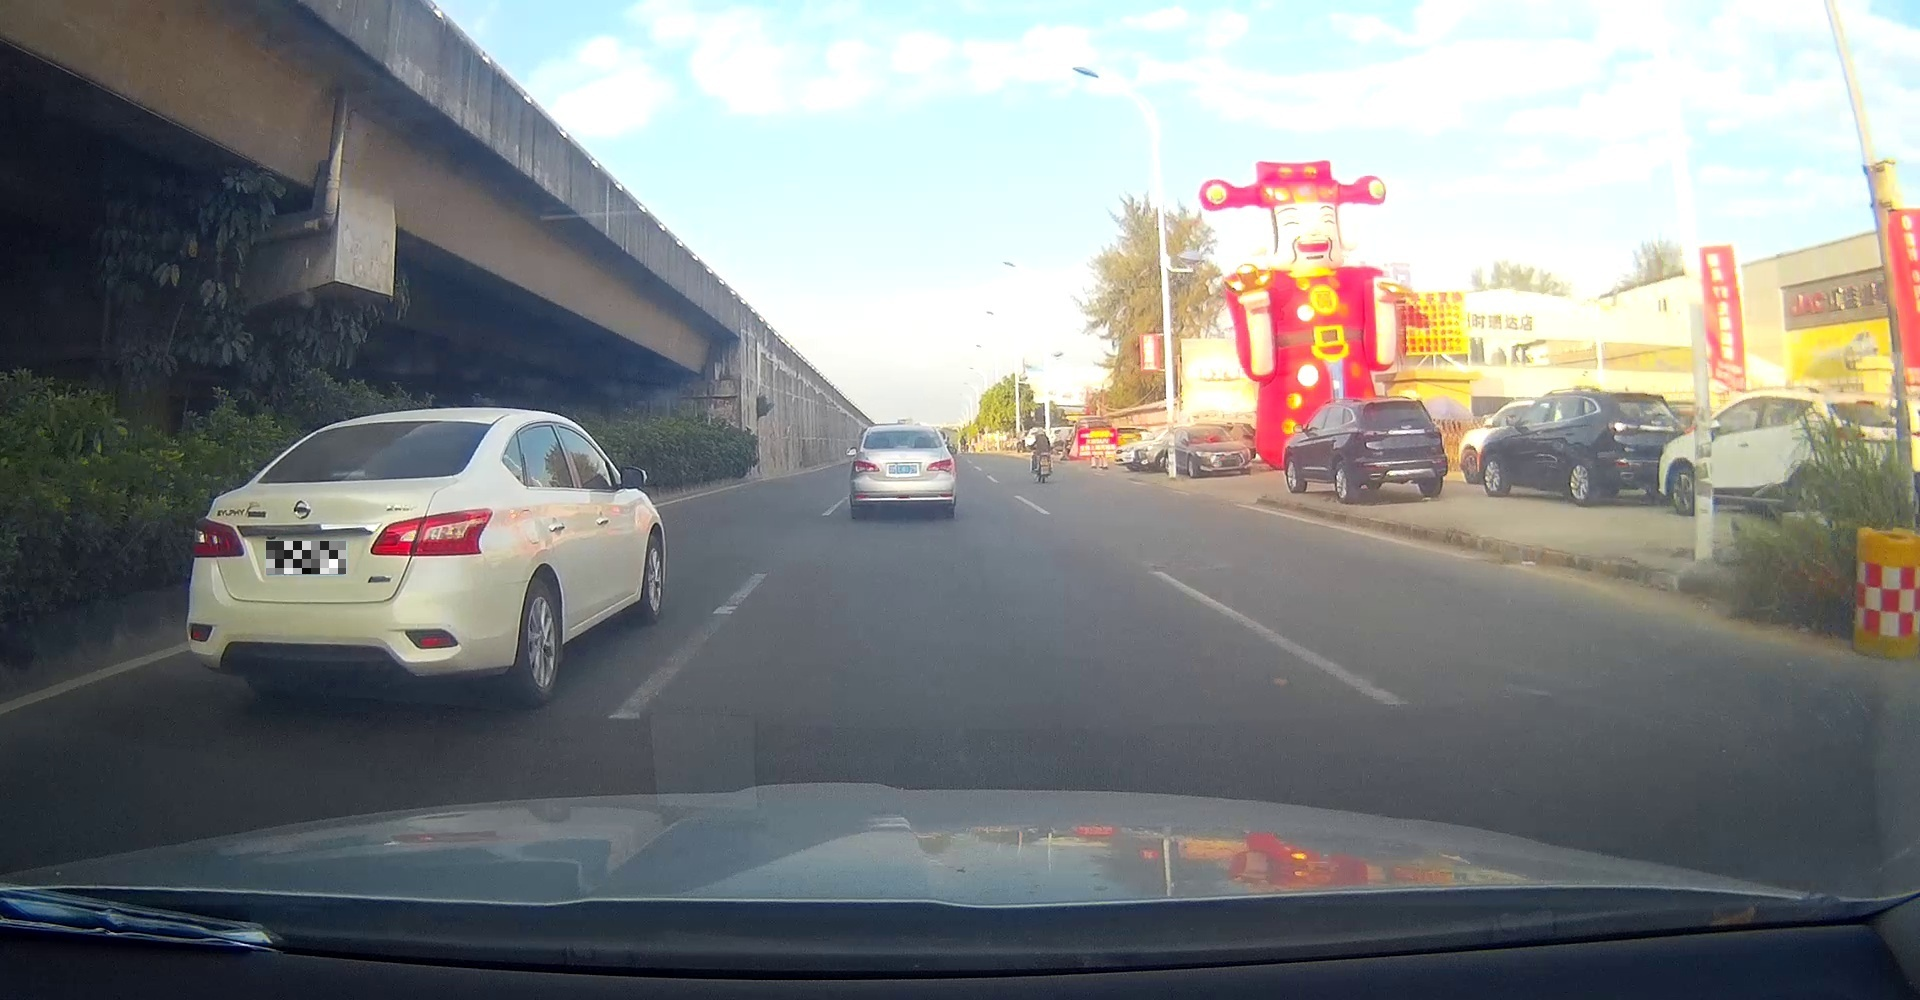L_light: (189, 516, 245, 560), (853, 459, 880, 472), (1361, 429, 1388, 442)
R_light: (370, 508, 493, 556), (926, 458, 952, 472), (1423, 425, 1443, 439)
T_light: (331, 472, 370, 481), (891, 444, 910, 449), (1387, 402, 1402, 407)
day-no: (185, 406, 493, 703), (851, 425, 956, 518), (1359, 396, 1448, 503)
plate_1: (265, 541, 345, 574)
